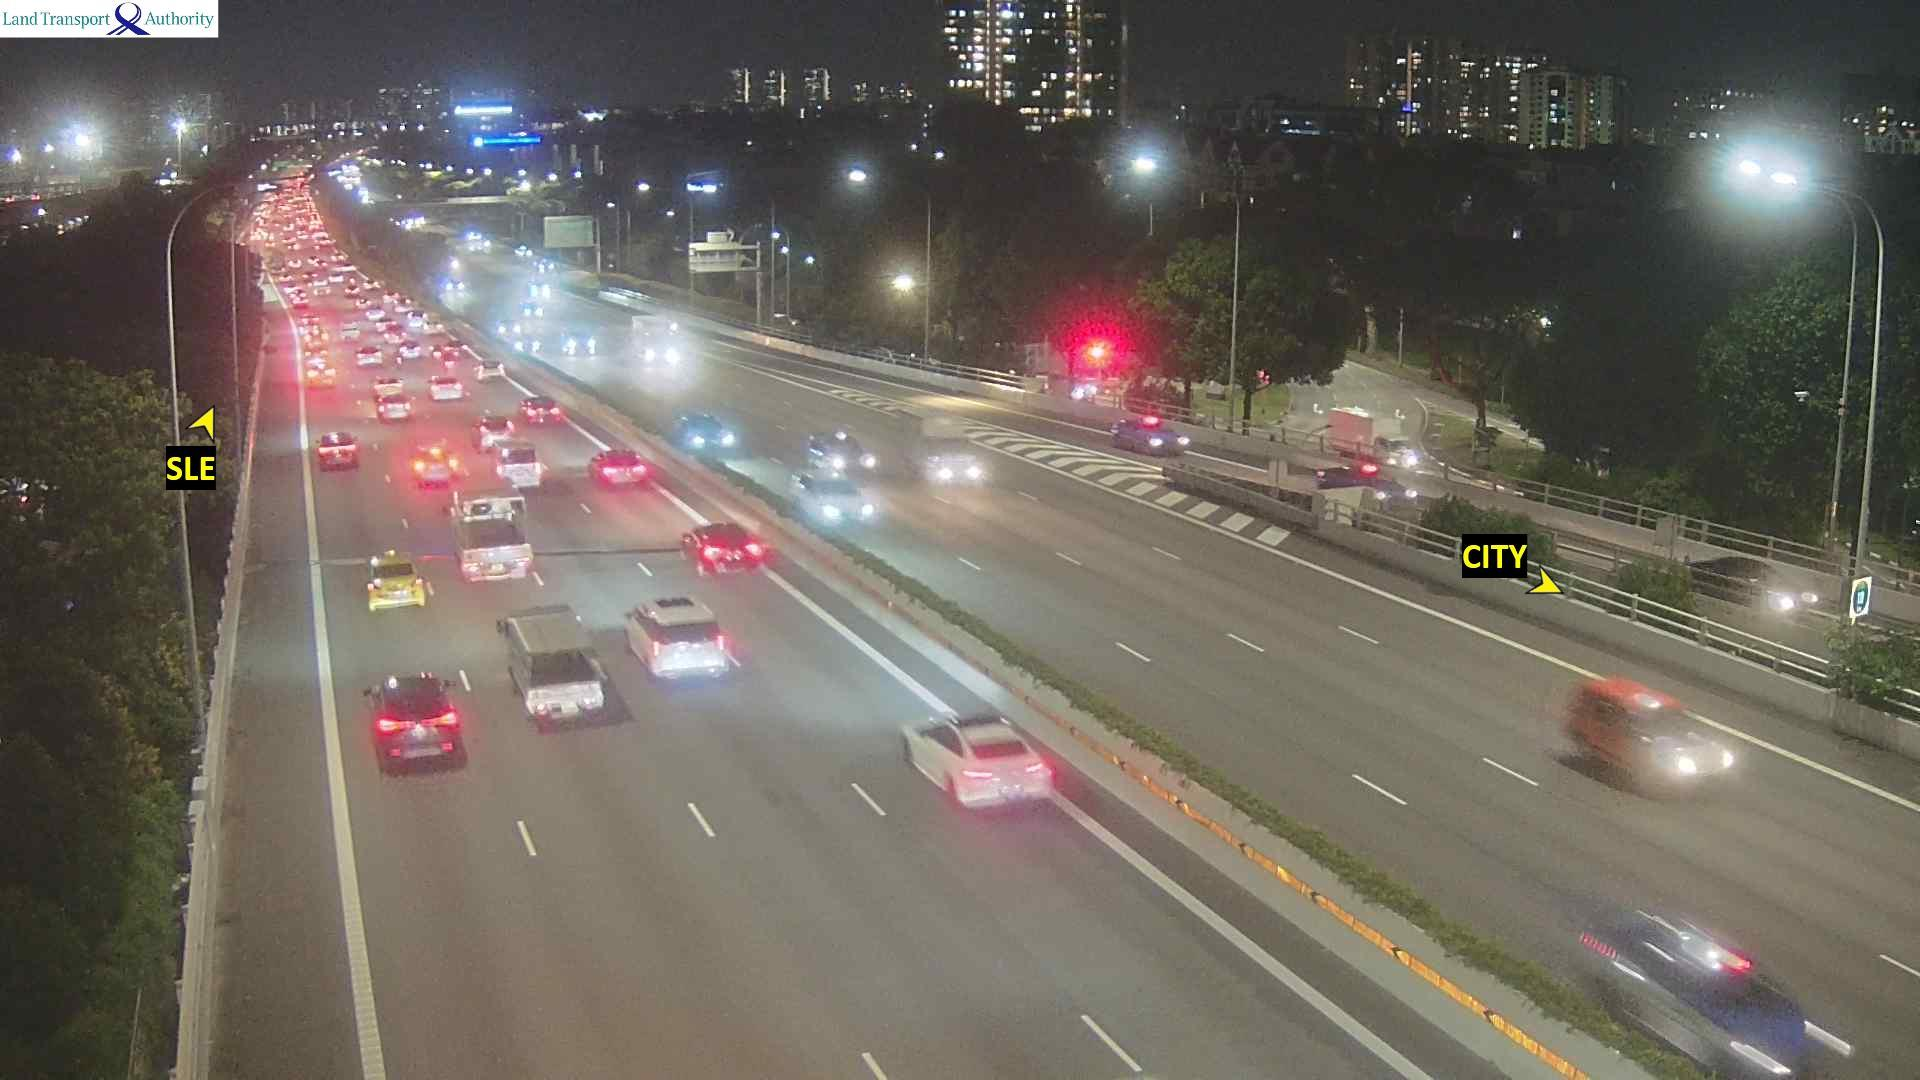incoming: (1693, 946, 1822, 1074), (1641, 706, 1740, 809), (1733, 563, 1812, 617), (1356, 458, 1427, 510), (923, 436, 990, 490), (818, 428, 887, 477), (681, 406, 747, 454), (823, 486, 877, 527), (1146, 408, 1192, 455), (1373, 433, 1430, 462), (641, 334, 684, 368), (561, 330, 603, 358), (498, 318, 527, 336), (513, 241, 536, 263), (519, 299, 544, 319), (529, 280, 553, 299), (447, 279, 471, 294), (538, 258, 560, 273)
